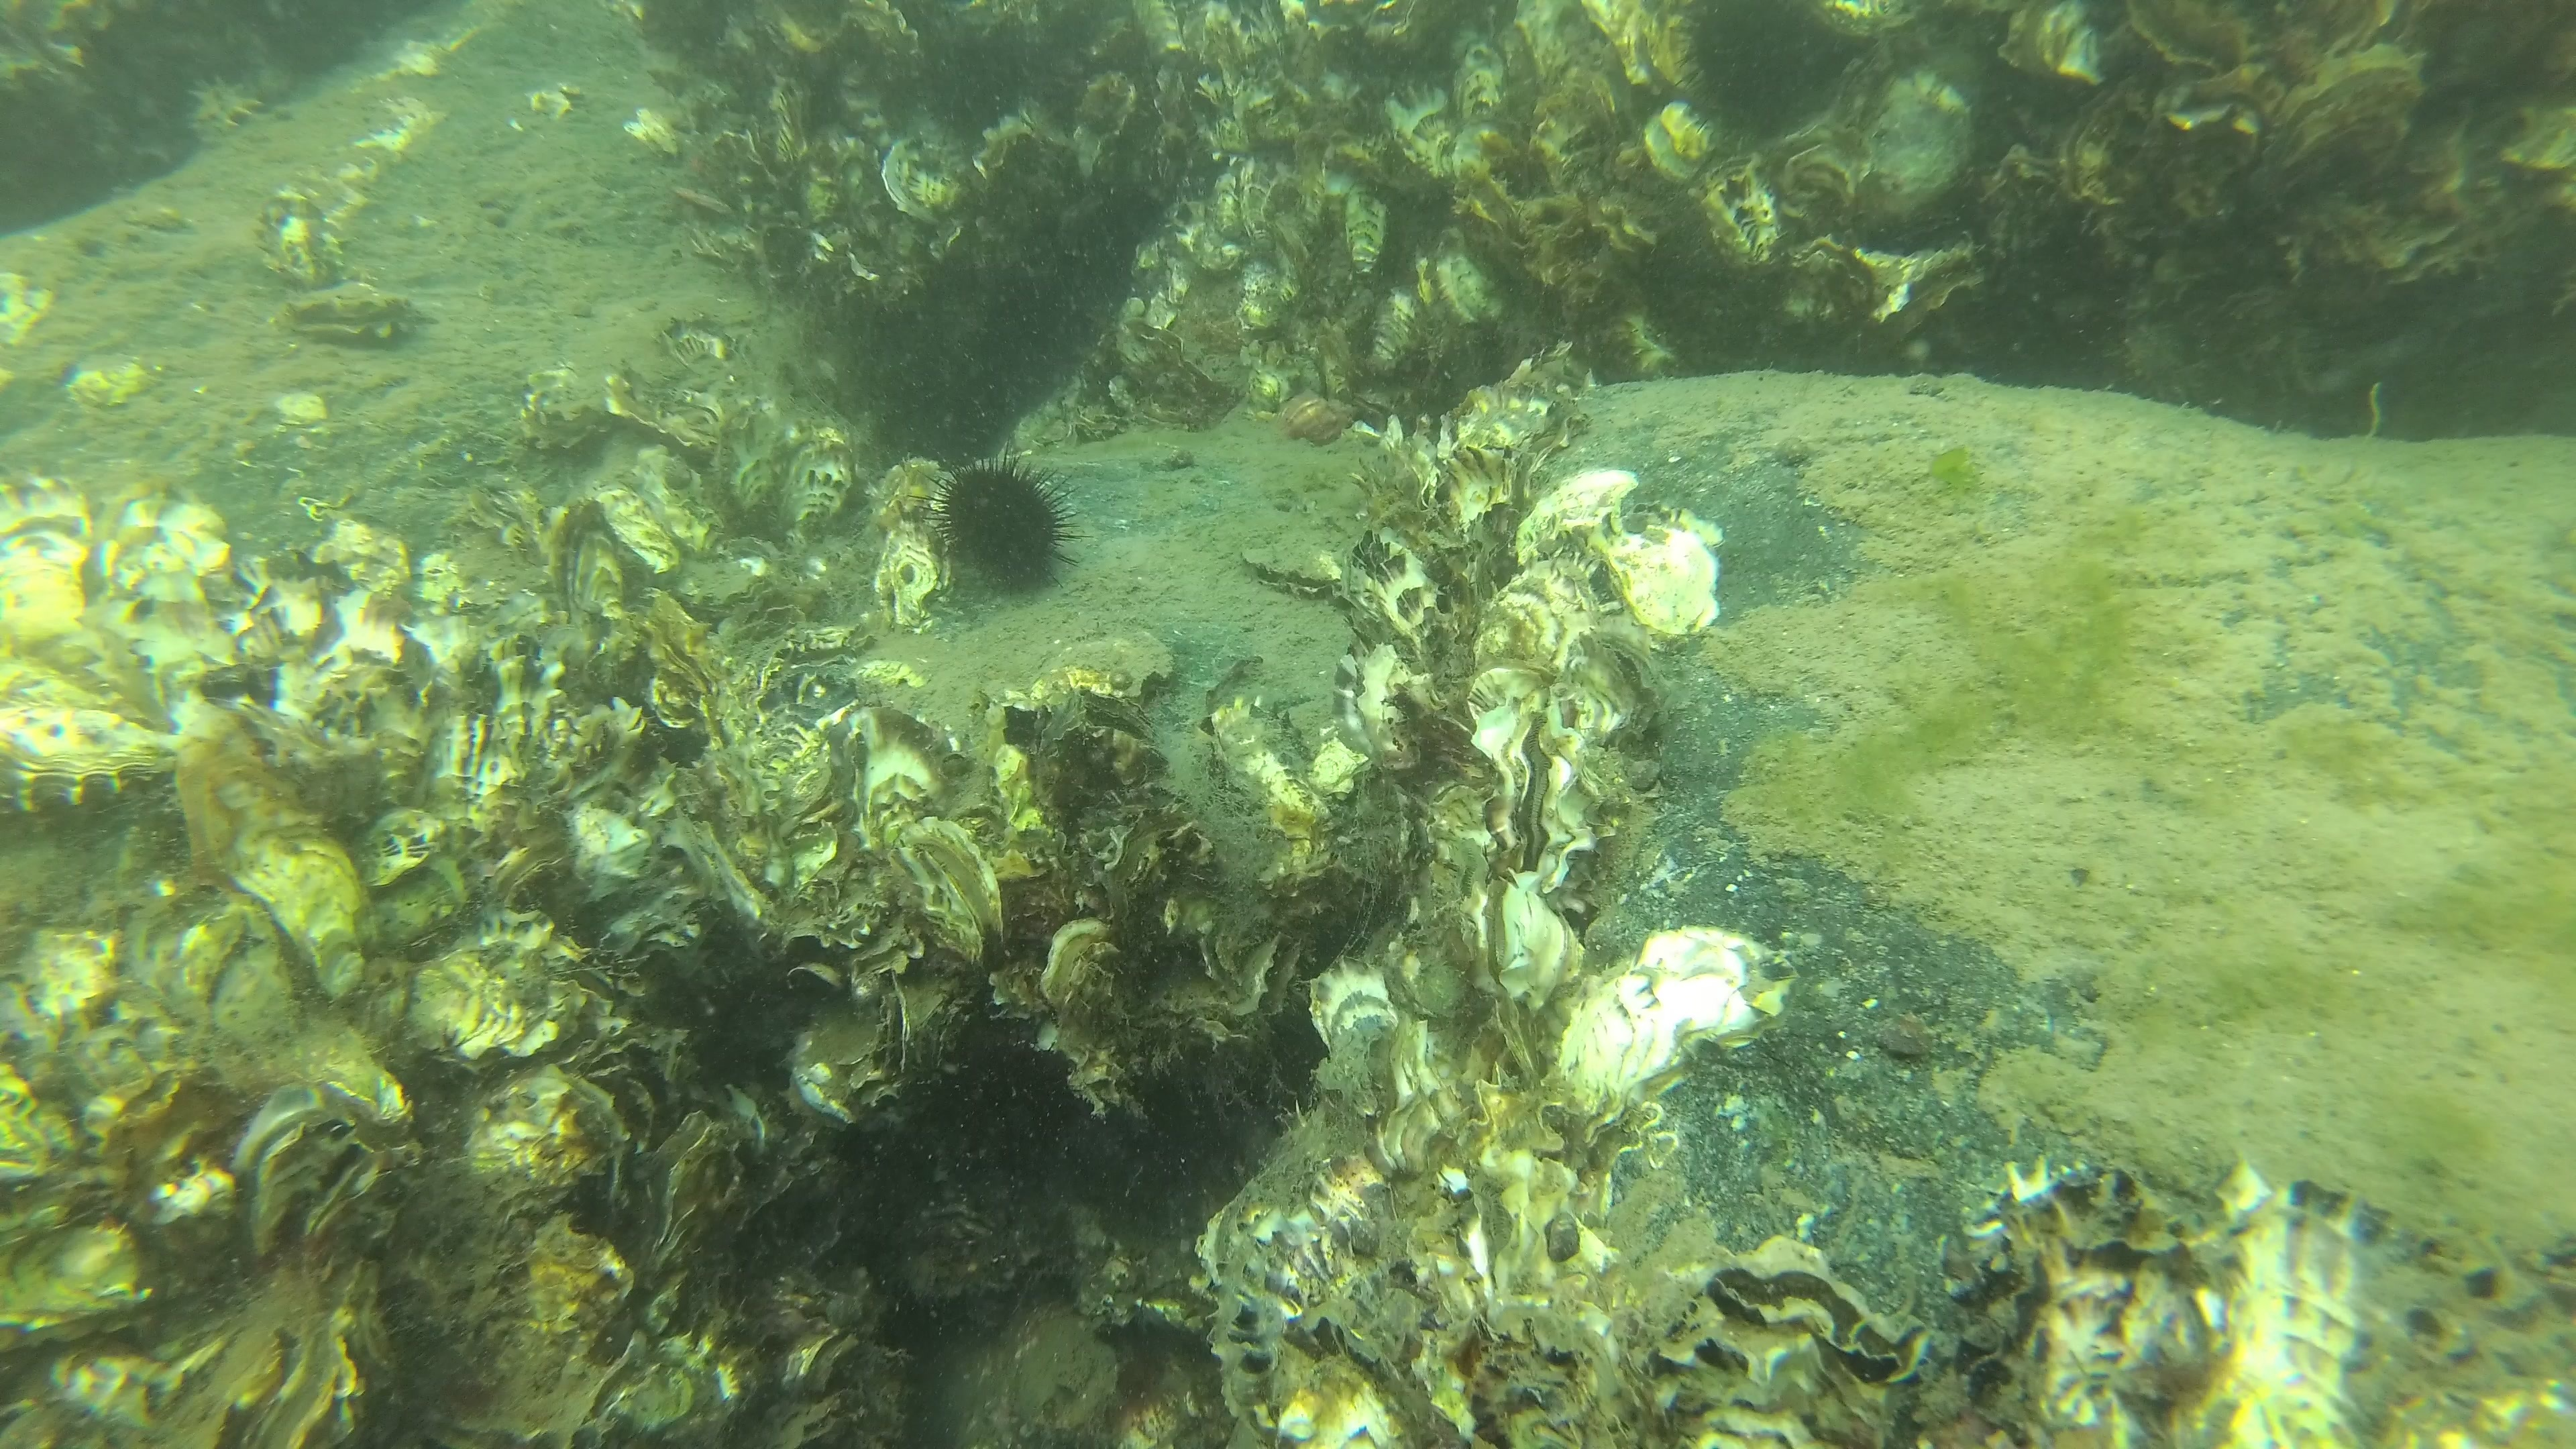echinus: (922, 455, 1090, 591)
holothurian: (175, 81, 267, 142)
